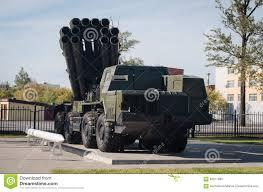MIL_SAM_TEL: (51, 15, 214, 152)
